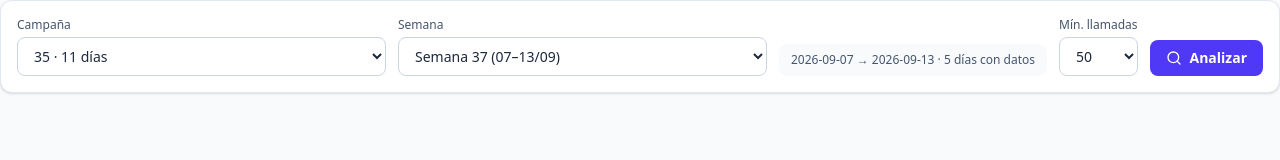
Test: FilterWeekBar › marca las semanas parciales en el select y muestra el badge
Select "Semana 38 (14–20/09) · parcial" in the dropdown labelled "Semana" at (582, 56), box [398,37,767,76]
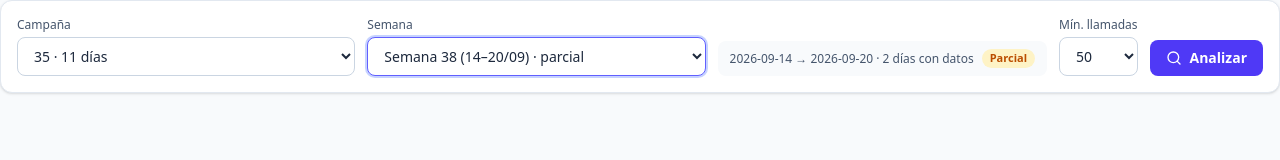
Now the text "Parcial" is shown, box [982,49,1035,68]
Now the text "2026-09-14 → 2026-09-20 · 2 días con datos Parcial" is shown, box [718,41,1047,76]
